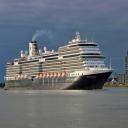cruises: (4, 34, 116, 92)
